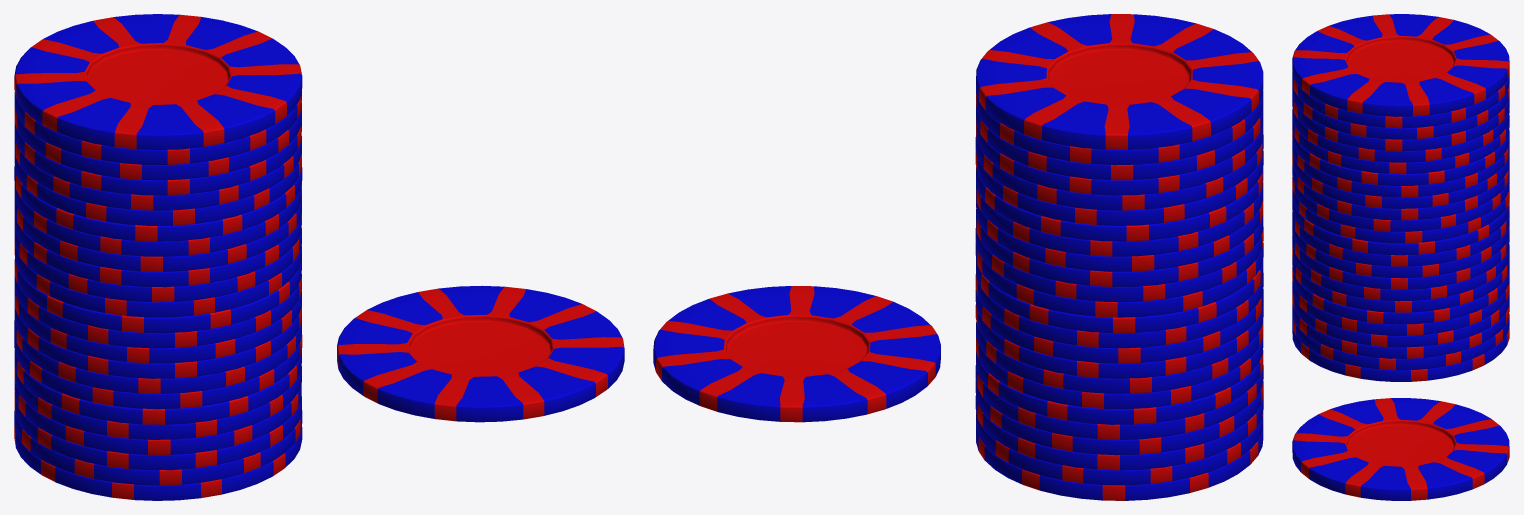
The model's file is Poker_Chips.fbx.
3 views of the same model, side by side, from view 1: azimuth 30°, elevation 25°; view 2: azimuth 150°, elevation 25°; view 3: azimuth 270°, elevation 25° (orthographic). The views are drawn at different scales.
Visible parts, largest first — view 1: Chip_03 (×8), Chip_01 (×8), Chip_02 (×8), Loose_Chip_01; view 2: Chip_03 (×8), Chip_01 (×8), Chip_02 (×8), Loose_Chip_01; view 3: Chip_03 (×8), Chip_01 (×8), Chip_02 (×8), Loose_Chip_01.
Boxes of the visible parts, left/top/right/bottom form: Chip_03 (×8): left=14, top=14, right=302, bottom=470; Chip_01 (×8): left=14, top=102, right=302, bottom=500; Chip_02 (×8): left=14, top=90, right=302, bottom=485; Loose_Chip_01: left=337, top=285, right=624, bottom=422; Chip_03 (×8): left=975, top=14, right=1263, bottom=470; Chip_01 (×8): left=975, top=105, right=1263, bottom=500; Chip_02 (×8): left=975, top=90, right=1263, bottom=485; Loose_Chip_01: left=653, top=286, right=940, bottom=422; Chip_03 (×8): left=1292, top=14, right=1509, bottom=358; Chip_01 (×8): left=1292, top=83, right=1509, bottom=381; Chip_02 (×8): left=1292, top=71, right=1509, bottom=370; Loose_Chip_01: left=1292, top=398, right=1509, bottom=500.
Bounding box in the file's own units: 4.54 × 2.79 × 1.98.
